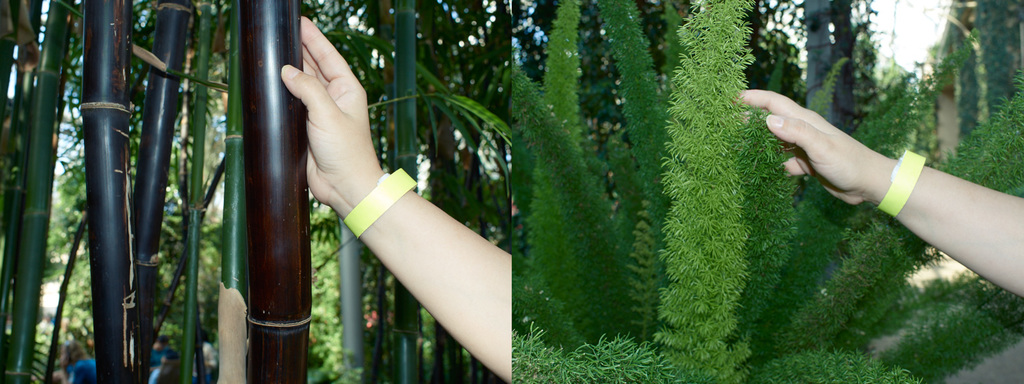Human_hand: (763, 85, 921, 209), (280, 14, 371, 207)
